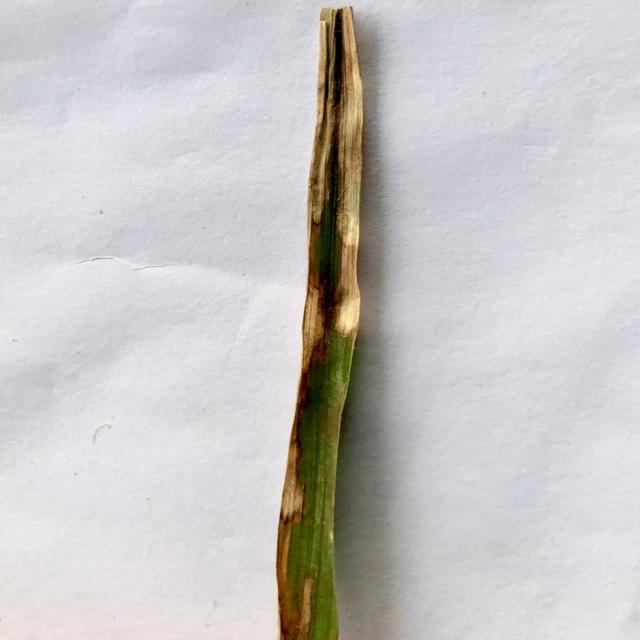Leaf Blight: (277, 4, 363, 640)
